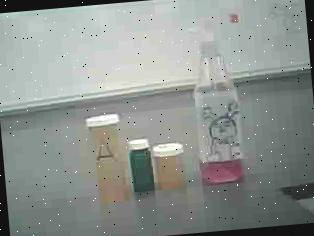Bottle A: (80, 111, 139, 215)
Bottle B: (152, 136, 190, 196)
Bottle C: (123, 127, 156, 195)
hazard: (175, 7, 269, 194)
